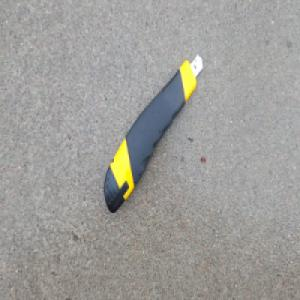Cutter: (102, 52, 204, 213)
